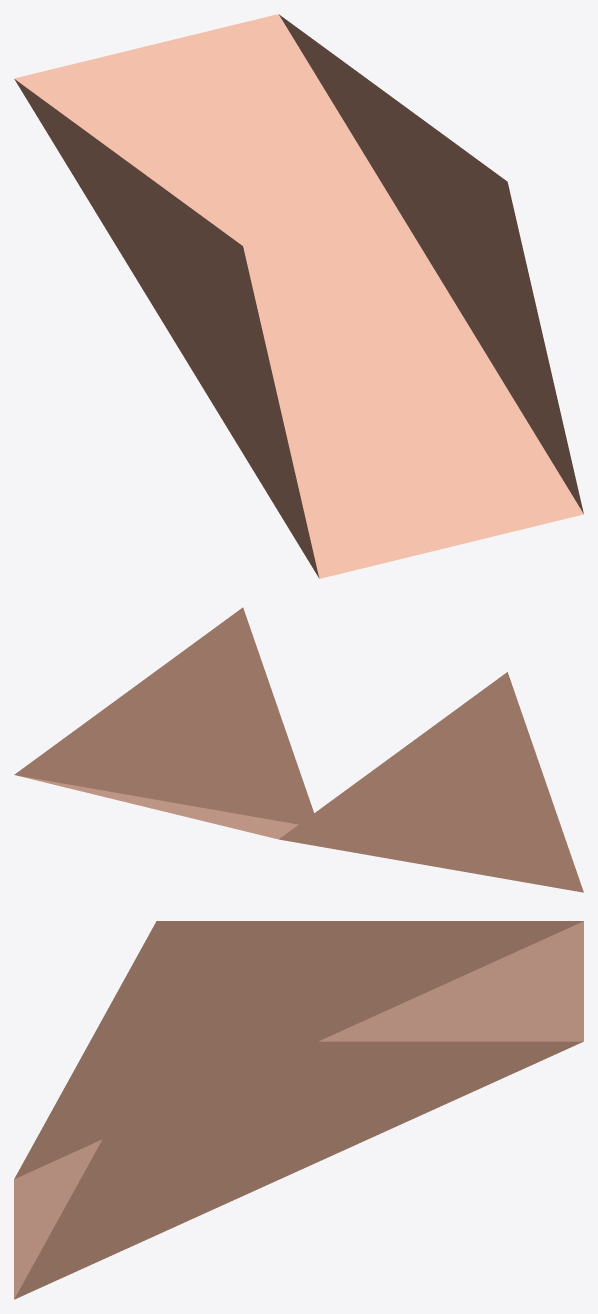
File: terrain_rampLarge.fbx
The picture shows the model from 3 angles, top to bottom: view 1: azimuth 30°, elevation 25°; view 2: azimuth 150°, elevation 25°; view 3: azimuth 270°, elevation 25°; orthographic projection. The views are drawn at different scales.
Parts seen in each view (by area): view 1: terrain_rampLarge; view 2: terrain_rampLarge; view 3: terrain_rampLarge.
Boxes of the visible parts, left/top/right/bottom form: terrain_rampLarge: left=14, top=14, right=583, bottom=578; terrain_rampLarge: left=14, top=607, right=583, bottom=892; terrain_rampLarge: left=14, top=921, right=583, bottom=1299.
Bounding box in the file's own units: 100 × 100 × 200.
